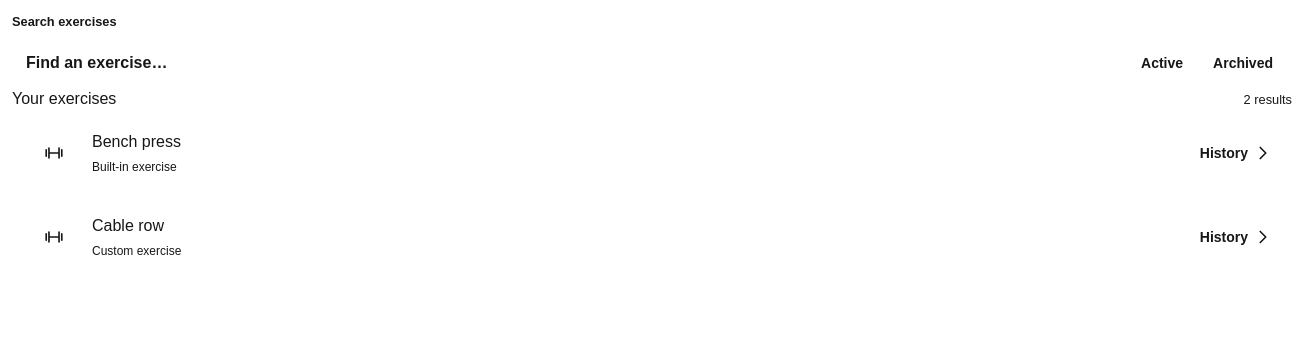
Scenario: V2 library › recovers from an empty search without changing the archive selection
The width and height of the screenshot is (1304, 360).
Click the button "Archived": [1243, 63] box [1198, 43, 1288, 83]
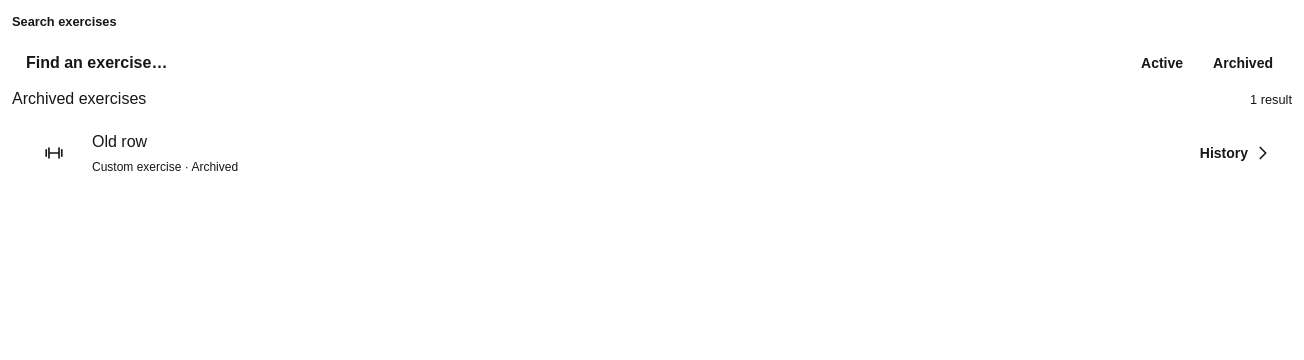
In the search field: [559, 63] box [12, 39, 1106, 87], type "missing"
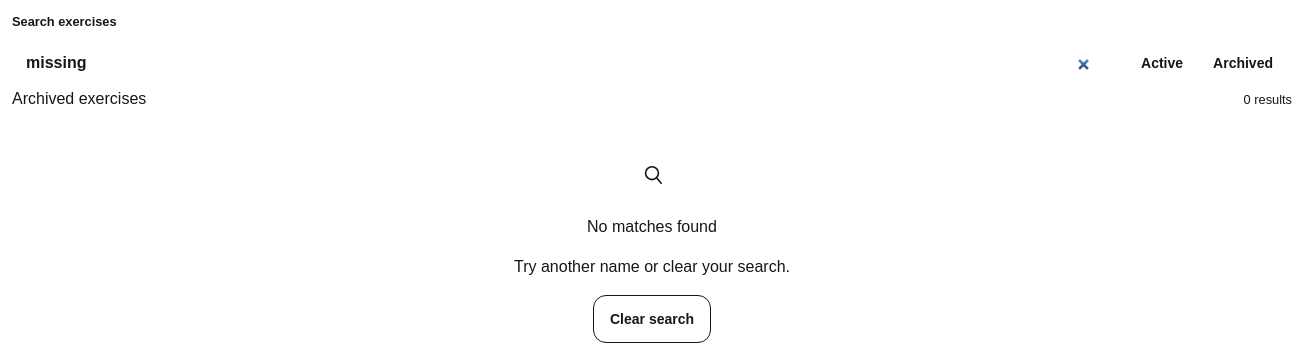
Expected: the heading "No matches found" is shown, [587, 215, 717, 239]
Click the button "Clear search": [652, 319] box [593, 295, 711, 343]
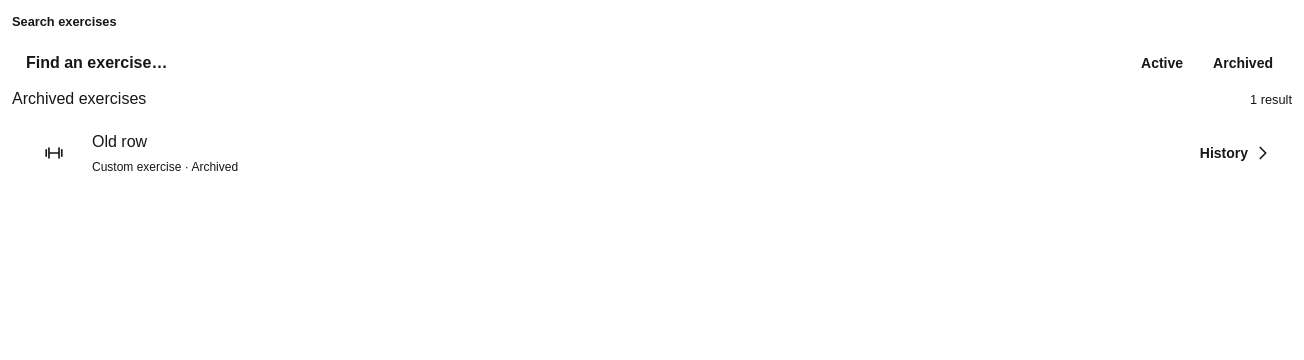
Expected: the heading "Old row" is shown, [92, 133, 147, 150]
